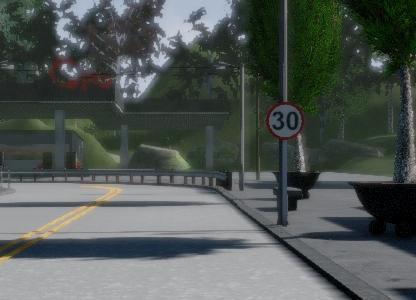Speed_30: (261, 91, 314, 143)
